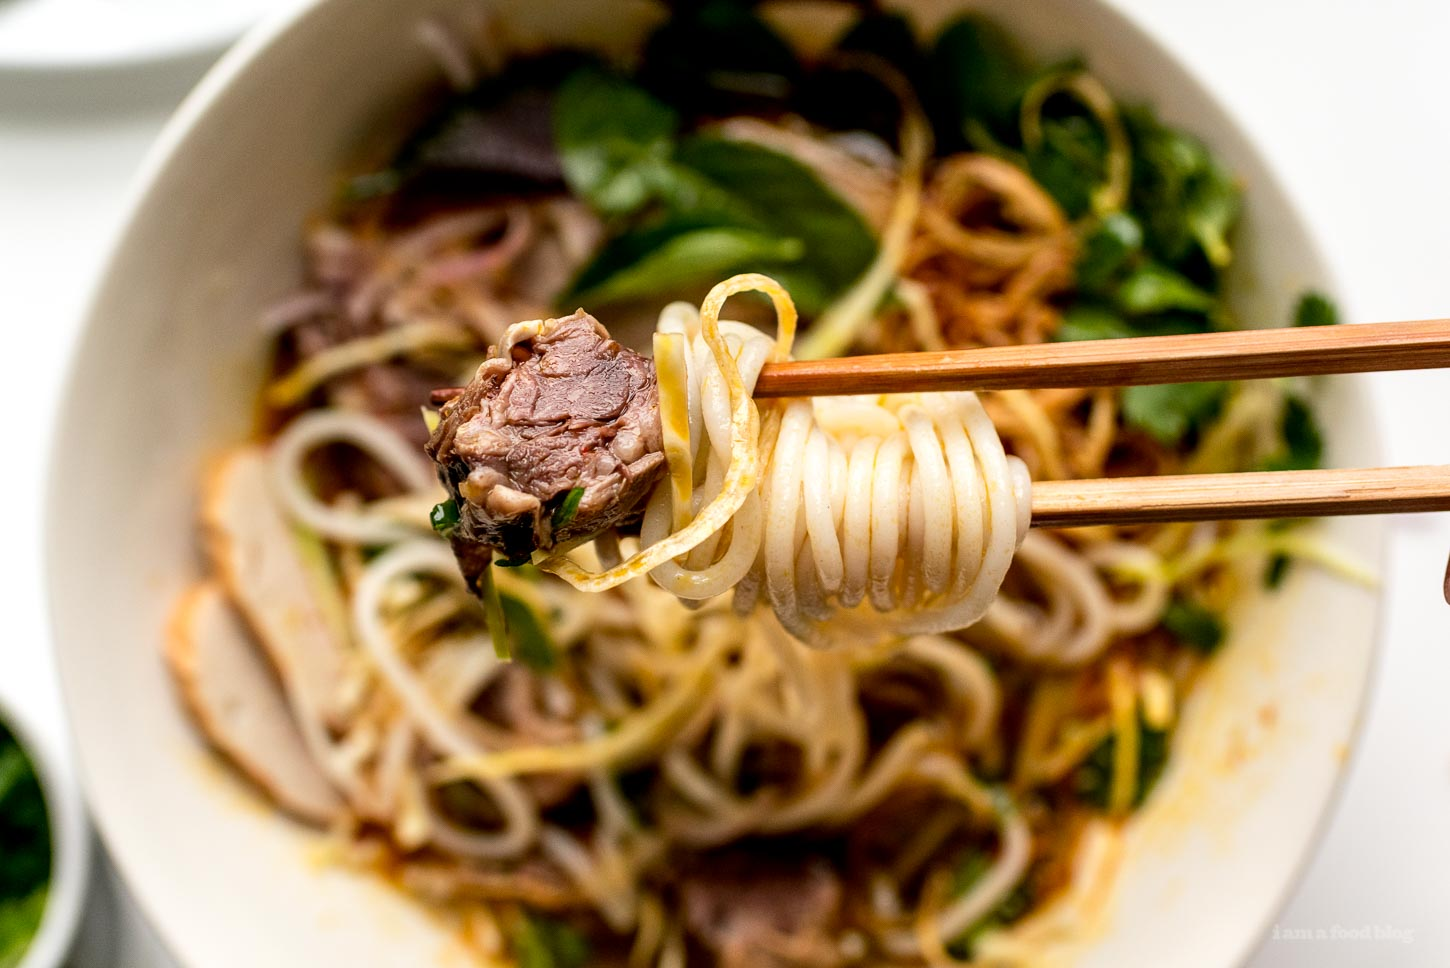beef: (404, 301, 663, 604)
